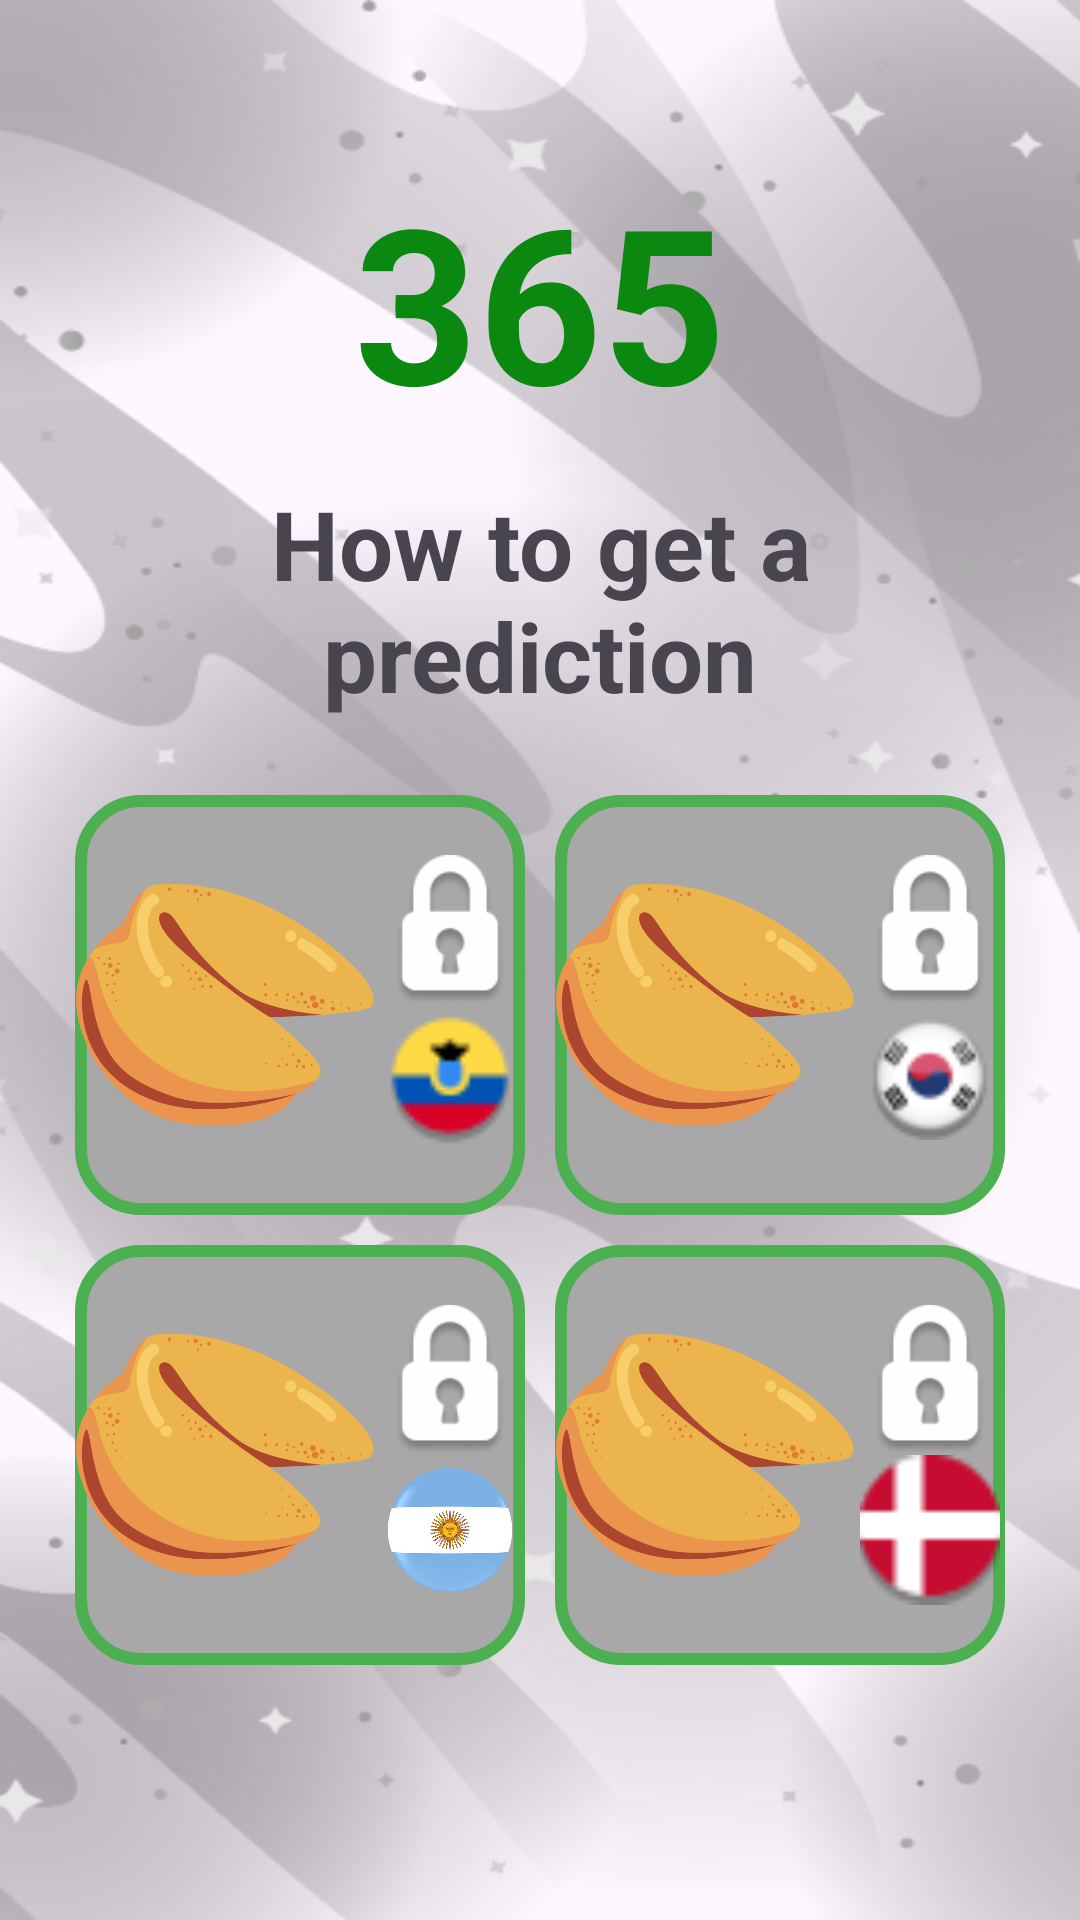

Point at icon controls on the screen. Image size 1080x1920, points as (x,y).
arg: (450,1530)
den: (932,1530)
ecu: (450,1079)
kor: (928,1081)
lock: (450,926), (930,926), (450,1376), (930,1380)
